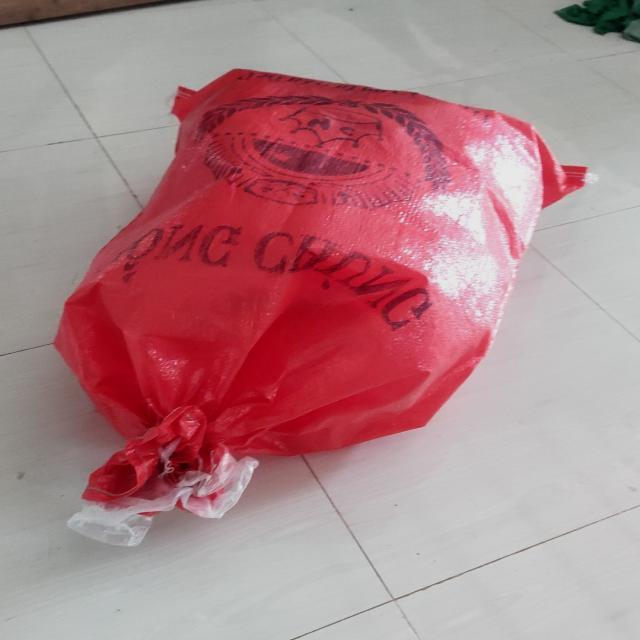gunny_bag: (53, 70, 587, 546)
